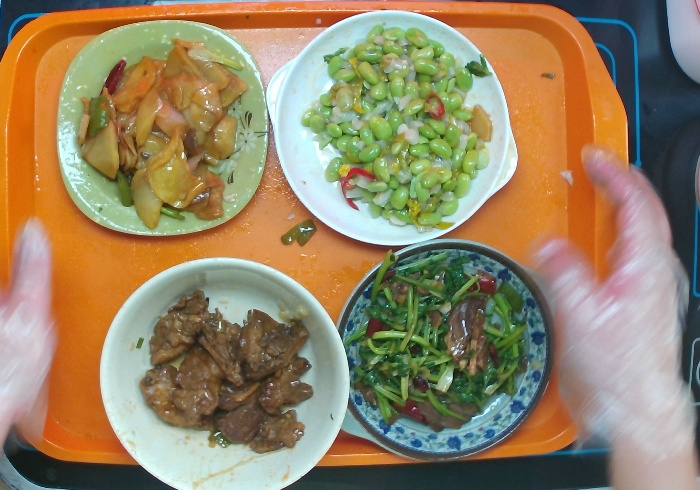NLDX-Bai_Se_Shuang_Er_Die: (265, 6, 525, 249)
NLDX-Bai_Se_Yuan_Wan: (95, 251, 353, 489)
NLDX-Lv_Hua_Fang_Die: (49, 16, 274, 238)
NLDX-Qing_Hua_Shuang_Er_Die: (319, 237, 570, 466)
